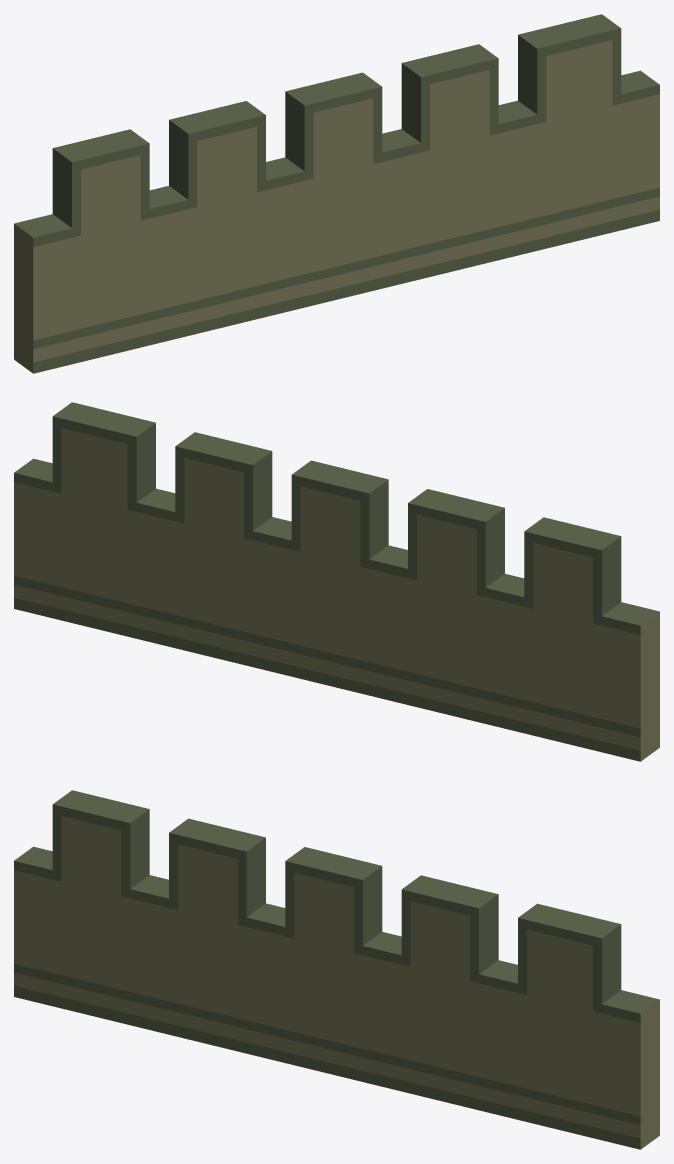
File: wall_small01.fbx
3 renders of one model, top to bottom at view 1: azimuth 30°, elevation 25°; view 2: azimuth 150°, elevation 25°; view 3: azimuth 330°, elevation 25°, orthographic.
Parts seen in each view (by area): view 1: wall_small01; view 2: wall_small01; view 3: wall_small01.
Boxes of the visible parts, box(x1,y1,x2,y2) form: wall_small01: box(14, 14, 659, 373); wall_small01: box(14, 402, 659, 761); wall_small01: box(14, 790, 659, 1149).
Size of the model in its own units: 16.68 by 5.14 by 0.8938.
